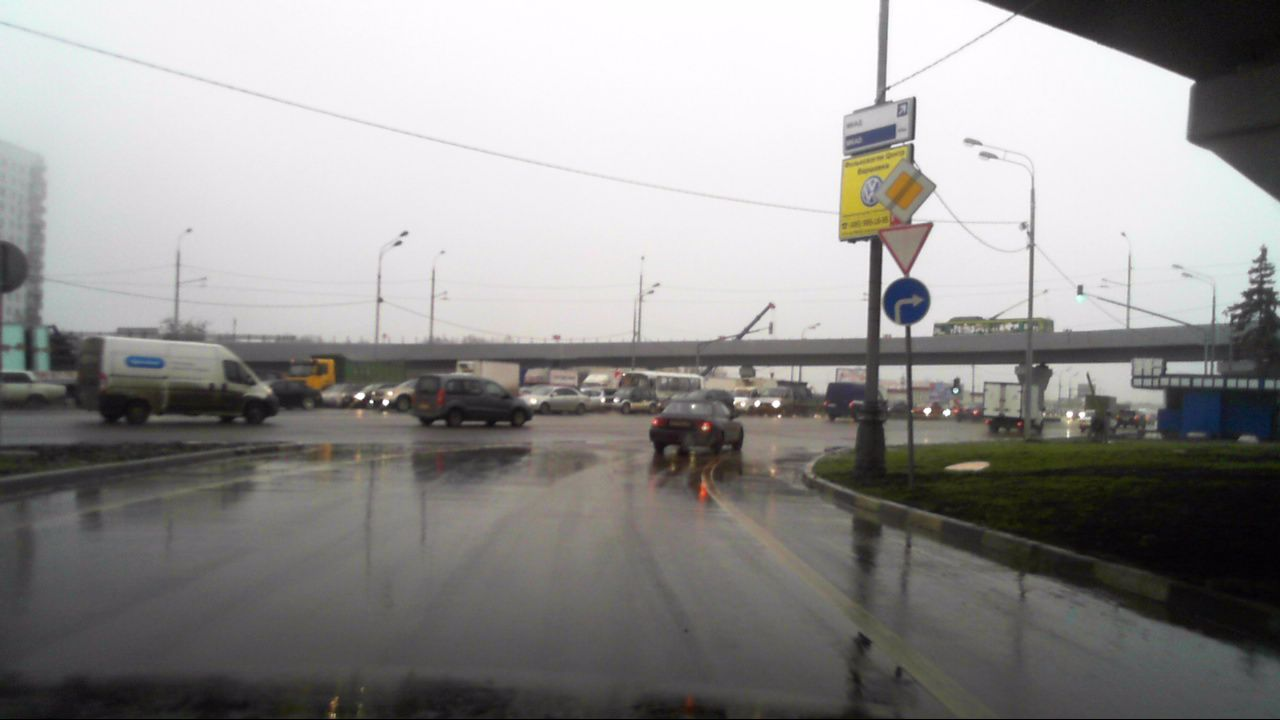main road: (875, 159, 936, 223)
